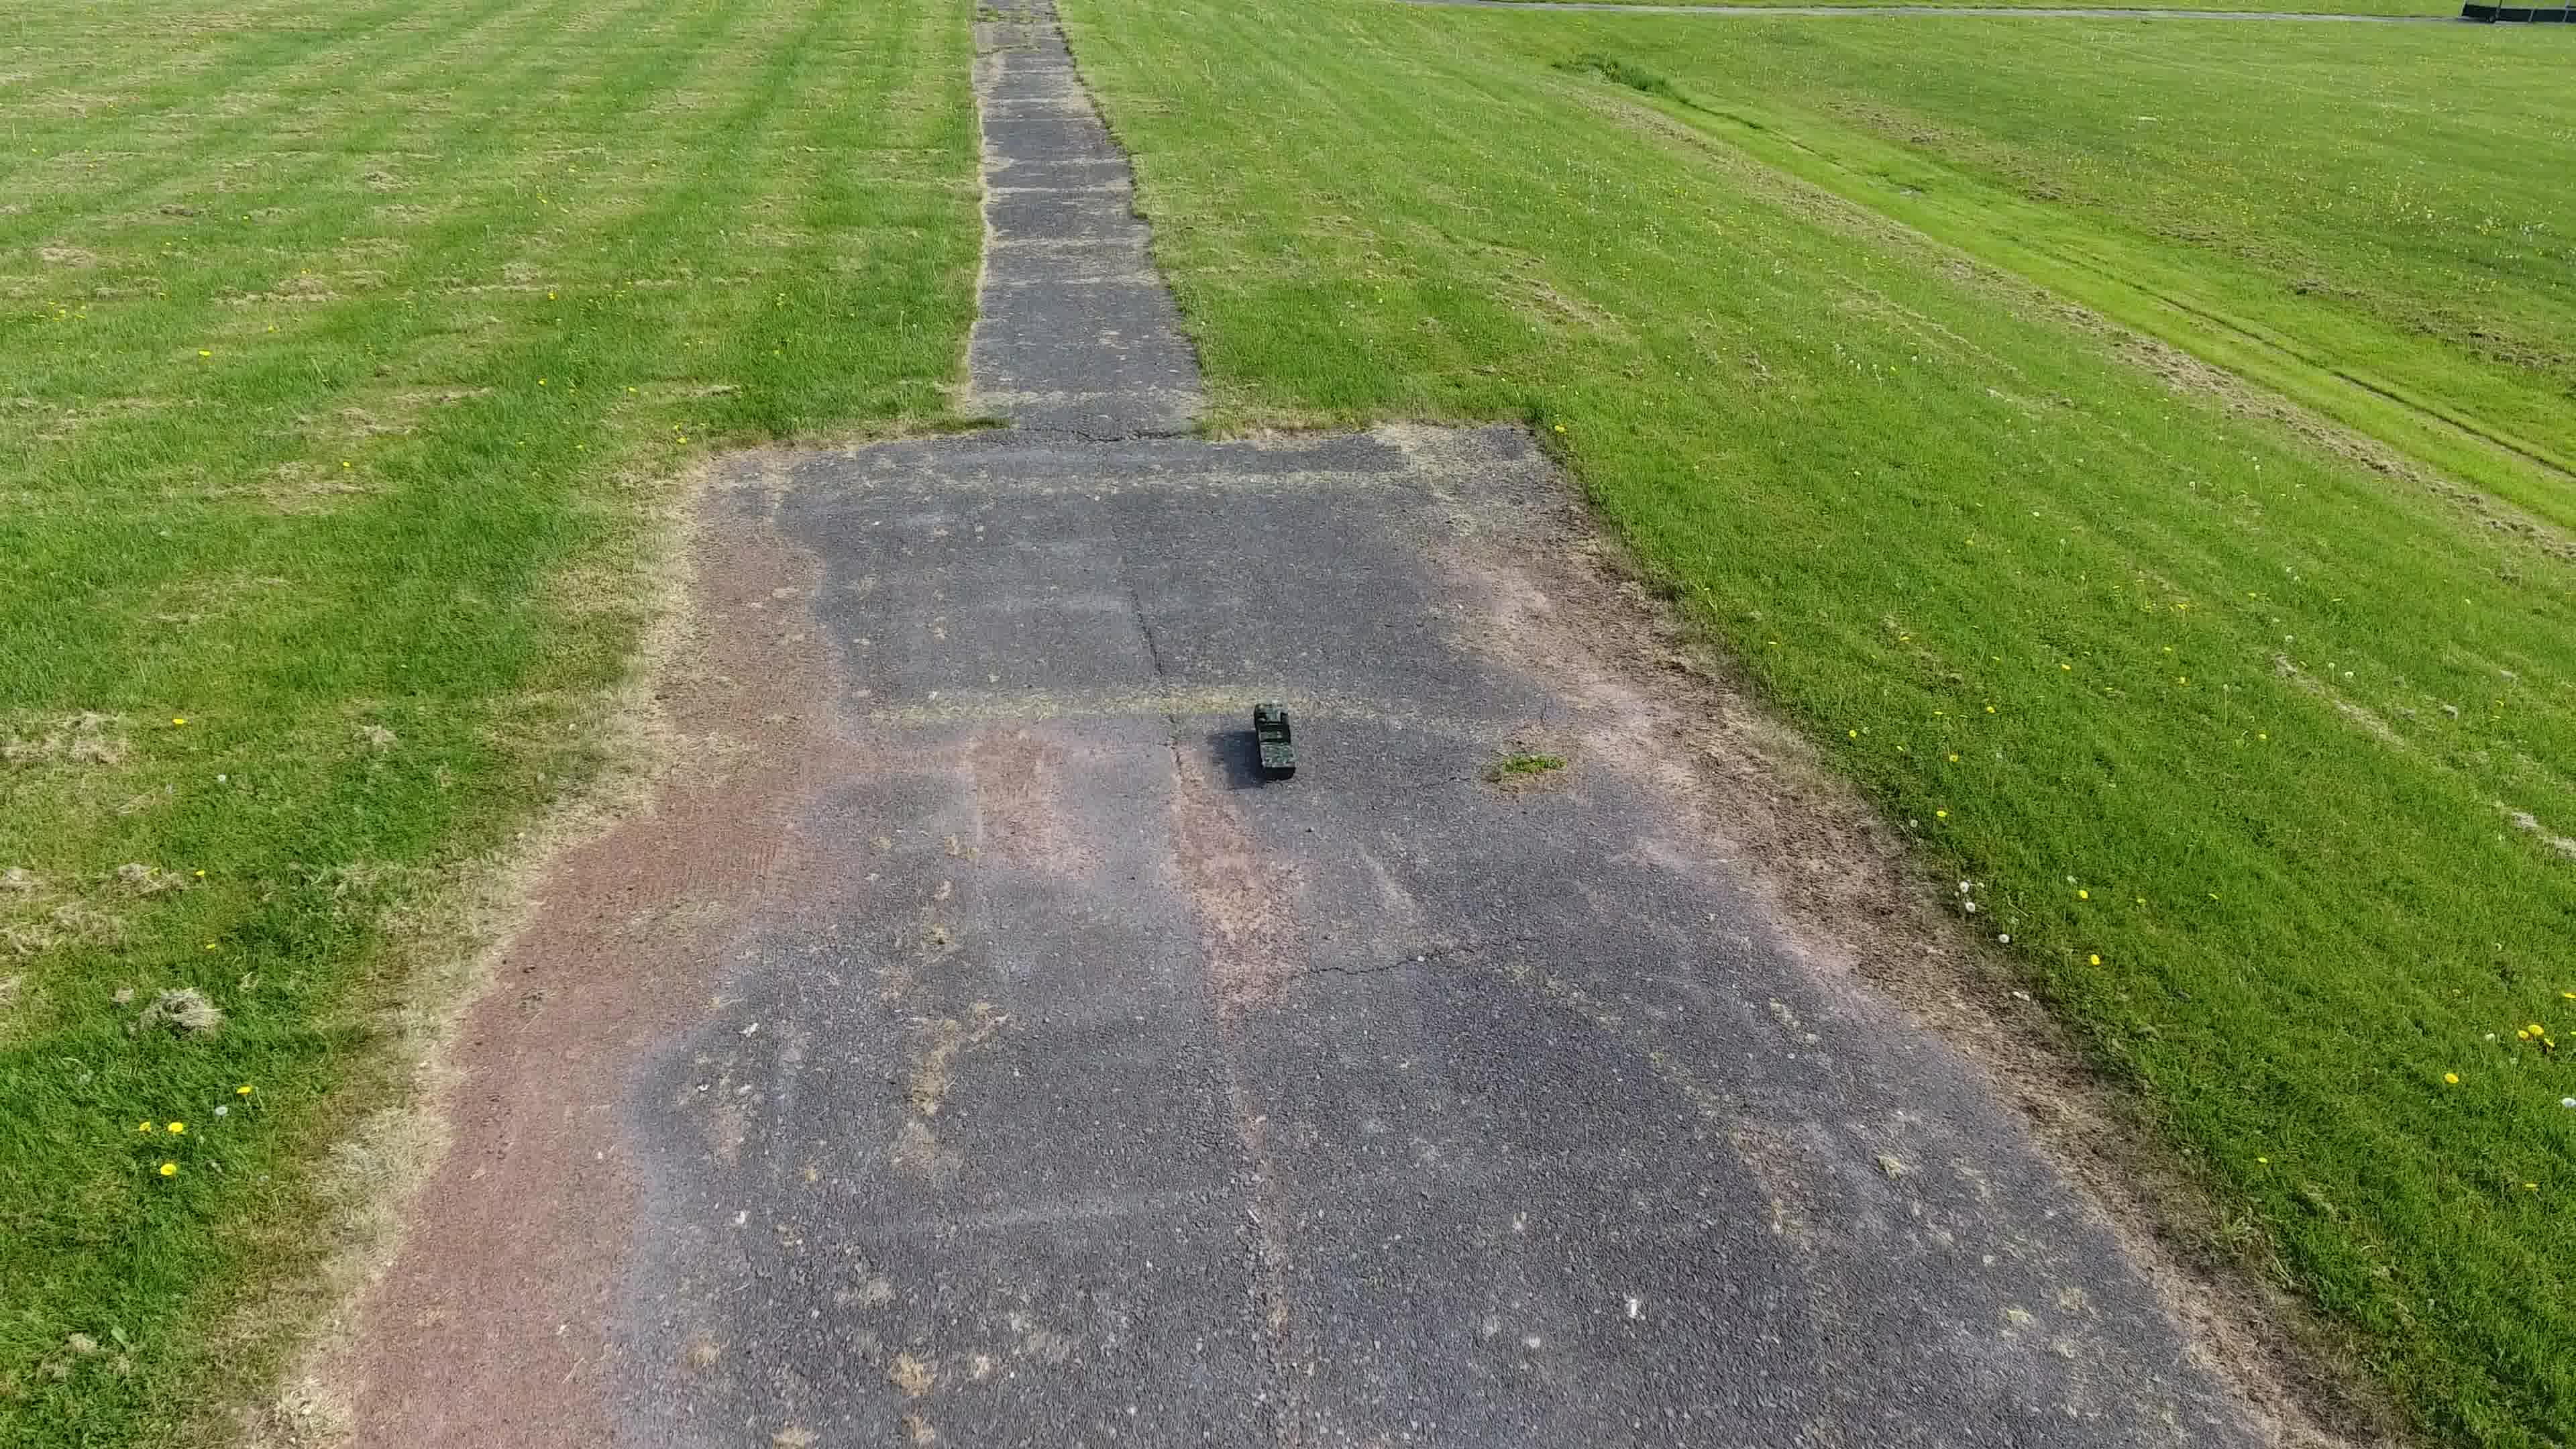transporter9: (1249, 697, 1299, 777)
